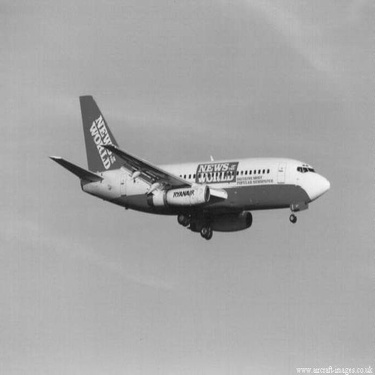airplane: (46, 92, 337, 245)
